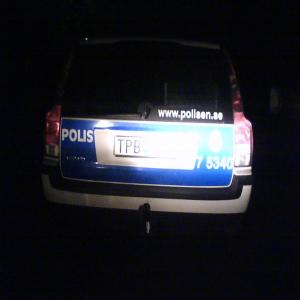Vehicle-registration-plate: (114, 136, 178, 159)
